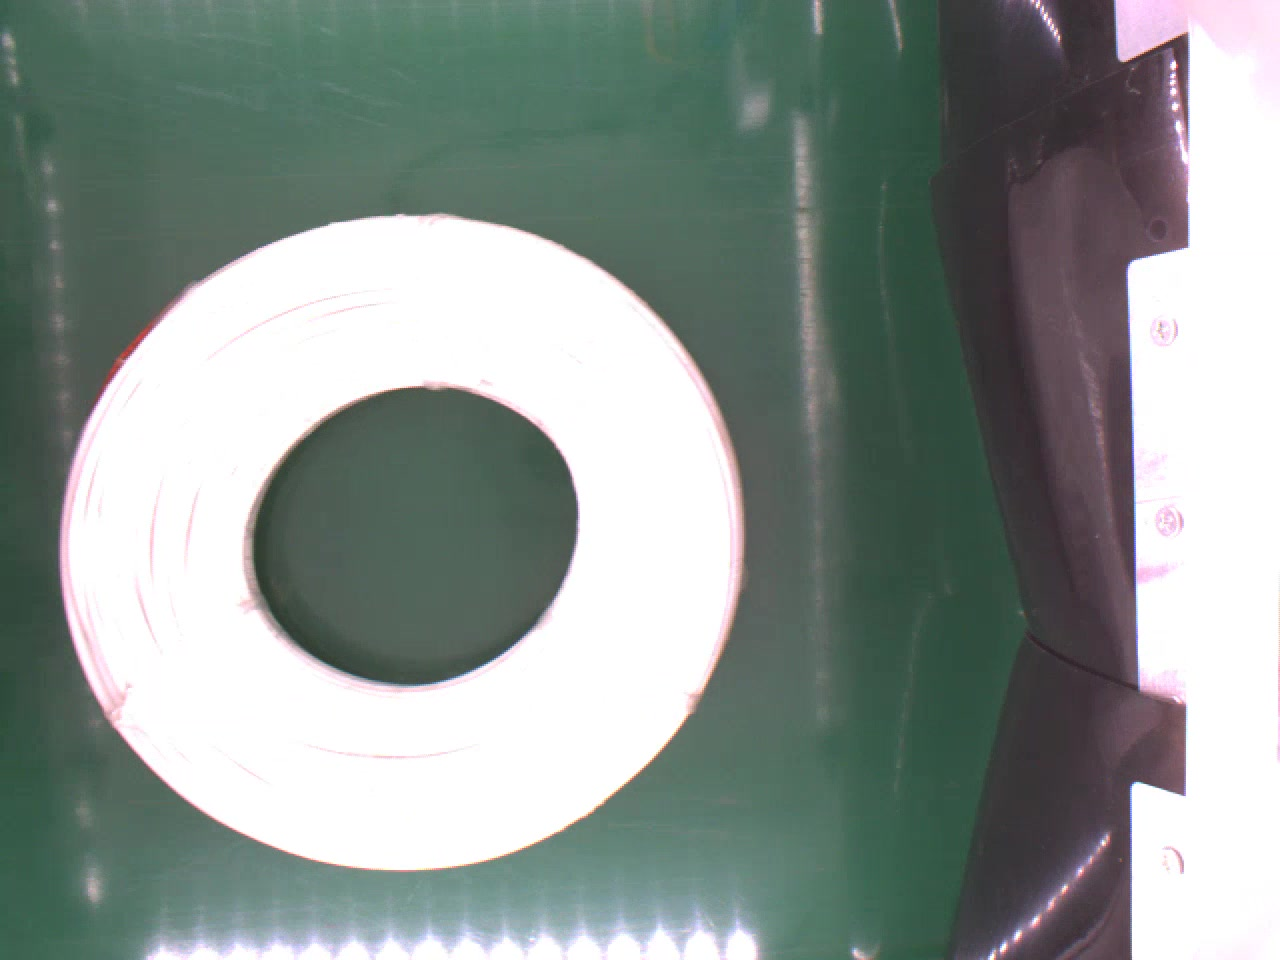white: (50, 209, 753, 872)
